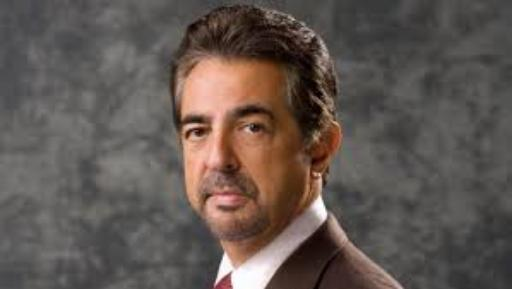left_eye: (236, 123, 269, 136)
left_lip_corner: (241, 192, 255, 202)
right_eye: (182, 126, 212, 141)
right_lip_corner: (201, 191, 216, 205)
